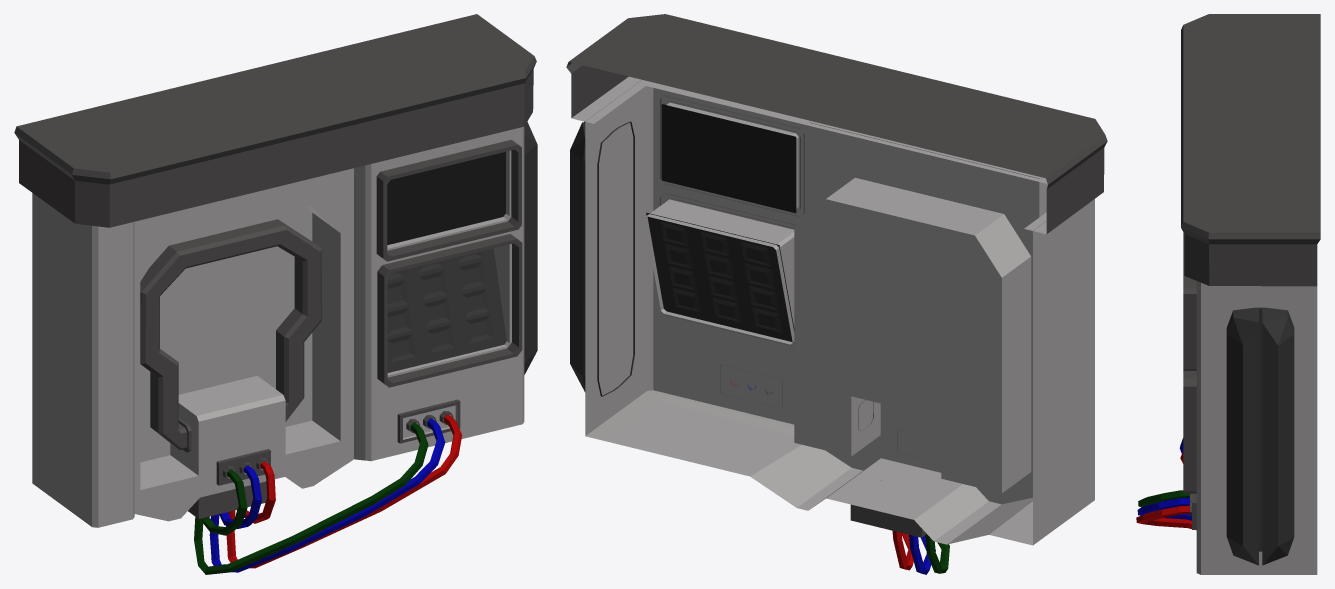
The model's file is WallKeypad.fbx.
3 views of the same model, side by side, from view 1: azimuth 30°, elevation 25°; view 2: azimuth 150°, elevation 25°; view 3: azimuth 270°, elevation 25° (orthographic). The views are drawn at different scales.
Parts seen in each view (by area): view 1: WallKeypad_Casing, WallKeypad_Lever; view 2: WallKeypad_Casing; view 3: WallKeypad_Casing.
Part boxes in pixels (x1=…): WallKeypad_Casing: x1=14, y1=14, x2=537, y2=574; WallKeypad_Lever: x1=140, y1=219, x2=322, y2=452; WallKeypad_Casing: x1=566, y1=14, x2=1107, y2=574; WallKeypad_Casing: x1=1136, y1=14, x2=1320, y2=574.
Bounding box in the file's own units: 54.62 × 48.88 × 18.56.
